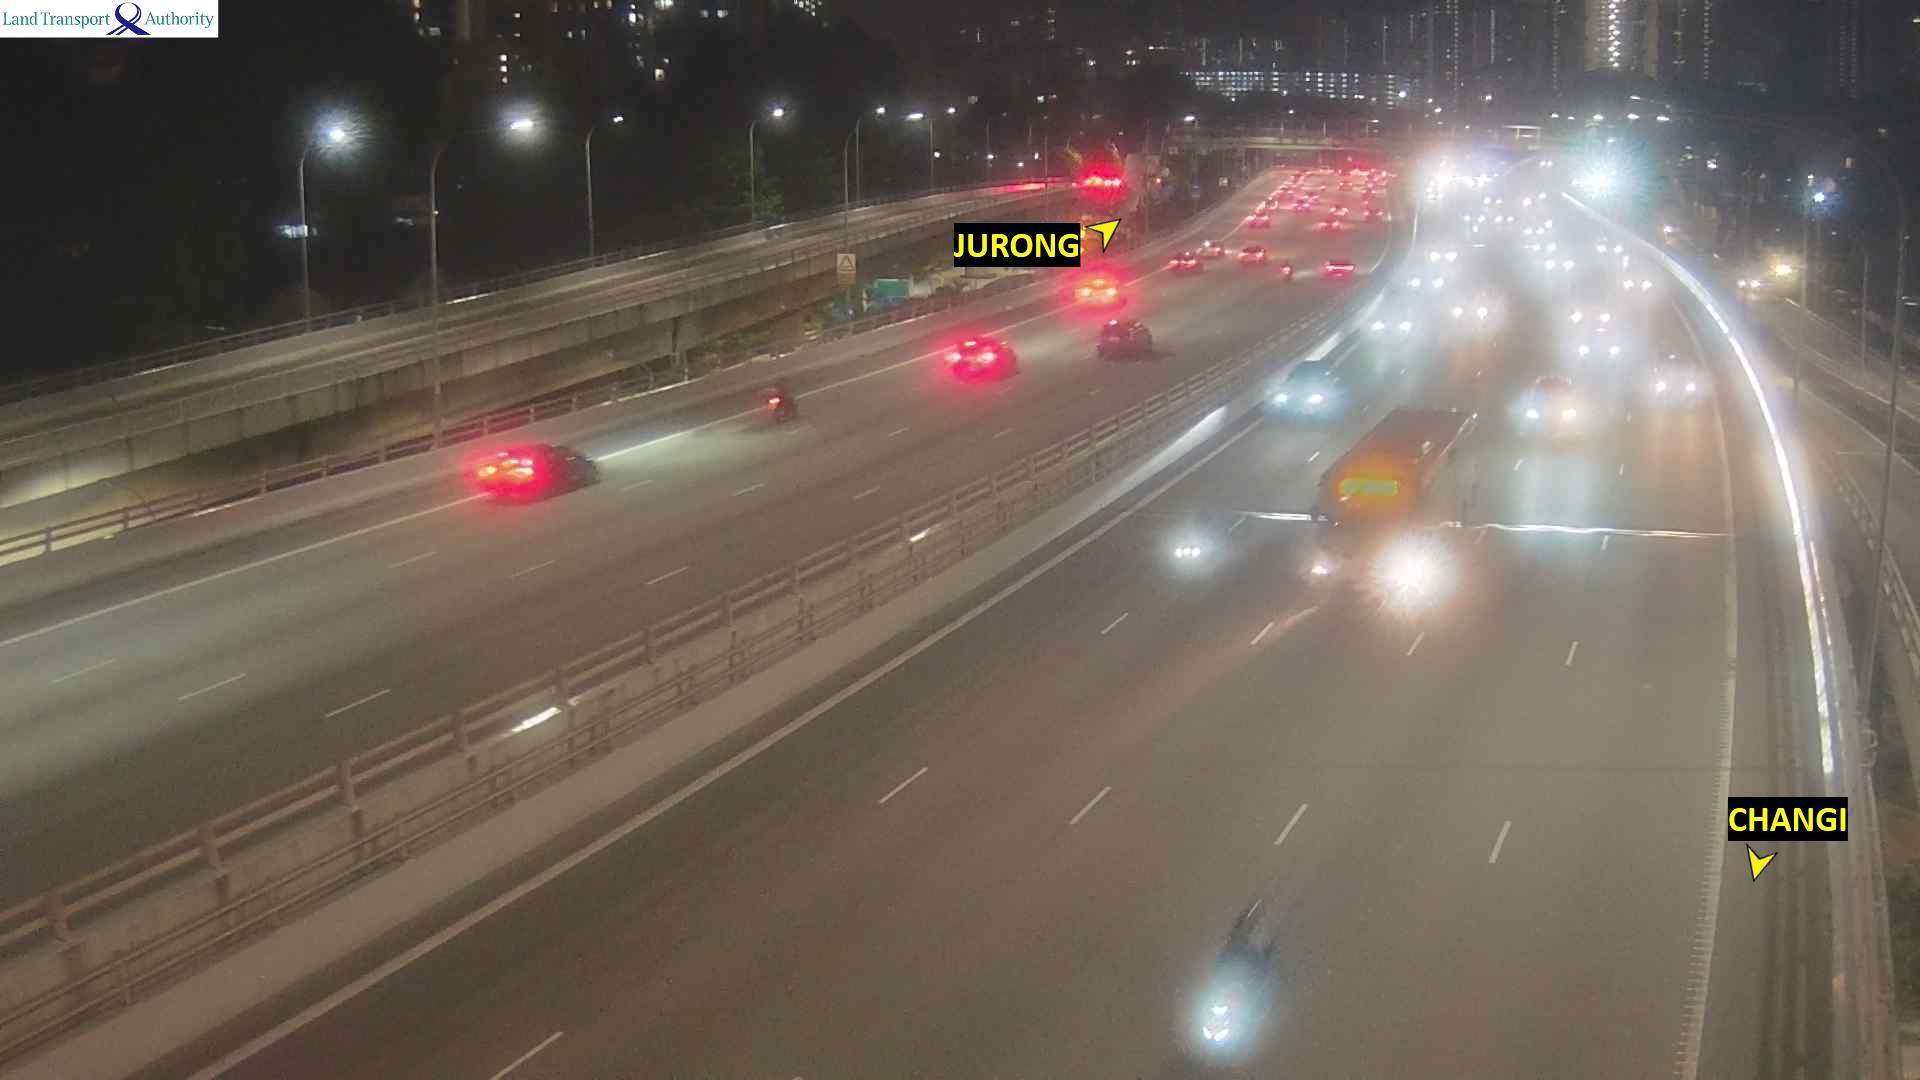bus: (1309, 401, 1480, 616)
cars: (1193, 894, 1281, 1052), (459, 440, 597, 504), (1157, 504, 1253, 584), (1263, 359, 1347, 423), (1507, 372, 1586, 436), (1625, 350, 1701, 412), (943, 333, 1017, 382), (1734, 251, 1797, 303), (1095, 316, 1152, 359), (1369, 295, 1417, 346), (751, 381, 796, 425), (1572, 160, 1620, 199), (1072, 271, 1122, 307), (1570, 292, 1616, 330), (1575, 332, 1626, 366), (1407, 259, 1450, 297), (1449, 291, 1491, 325), (1425, 240, 1469, 267), (1620, 269, 1659, 299), (1166, 249, 1202, 273), (1544, 252, 1580, 276), (1521, 214, 1552, 241), (1321, 257, 1355, 279), (1462, 204, 1491, 229), (1479, 188, 1513, 209), (1596, 233, 1628, 255), (1235, 242, 1266, 264), (1529, 238, 1560, 255), (1199, 238, 1224, 259), (1493, 209, 1518, 229), (1363, 206, 1388, 226), (1329, 203, 1354, 222), (1244, 212, 1270, 229), (1314, 217, 1341, 232), (1301, 188, 1324, 205), (1360, 185, 1383, 201), (1263, 195, 1283, 213), (1293, 198, 1313, 215), (1540, 155, 1560, 171), (1278, 258, 1293, 279), (1277, 186, 1298, 201), (1365, 172, 1385, 186), (1289, 171, 1310, 184), (1337, 177, 1354, 193)
motorcycle: (1319, 179, 1329, 193)
